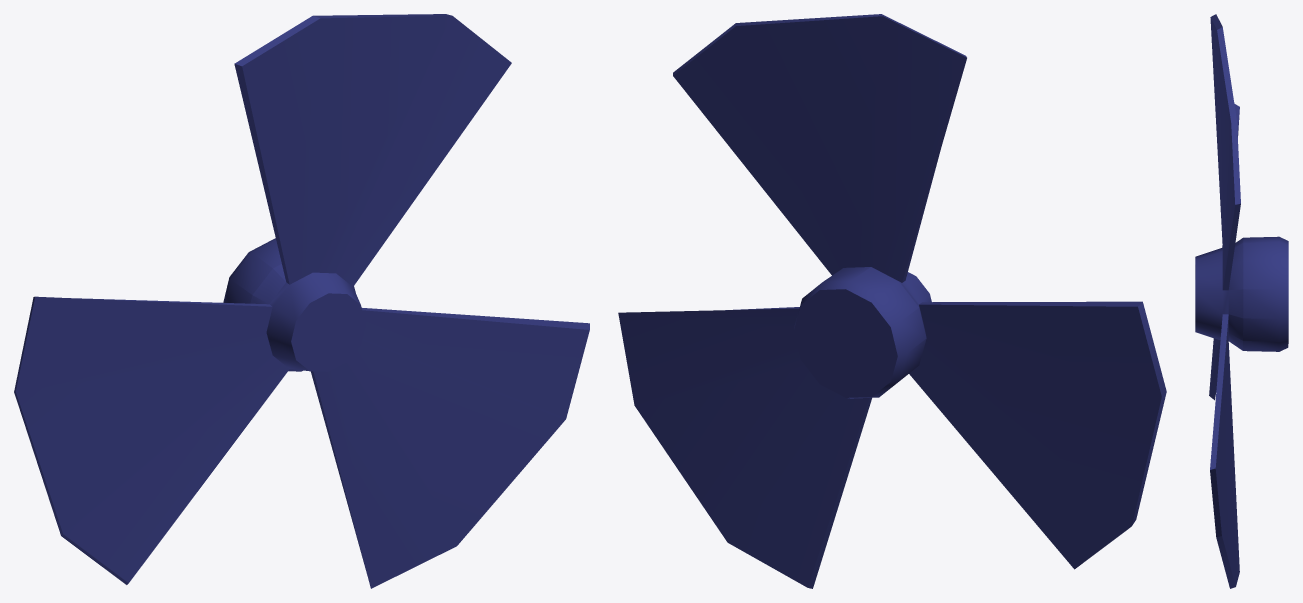
File: Fan.fbx
3 renders of one model, left to right at view 1: azimuth 30°, elevation 25°; view 2: azimuth 150°, elevation 25°; view 3: azimuth 270°, elevation 25°, orthographic. The views are drawn at different scales.
Visible parts, largest first — view 1: Mesh (2); view 2: Mesh (2); view 3: Mesh (2).
Boxes of the visible parts, x1,y1,x2,y2 form: Mesh (2): [14, 14, 589, 588]; Mesh (2): [618, 14, 1166, 588]; Mesh (2): [1195, 14, 1288, 588].
Bounding box in the file's own units: 63.01 × 63.15 × 10.28.
